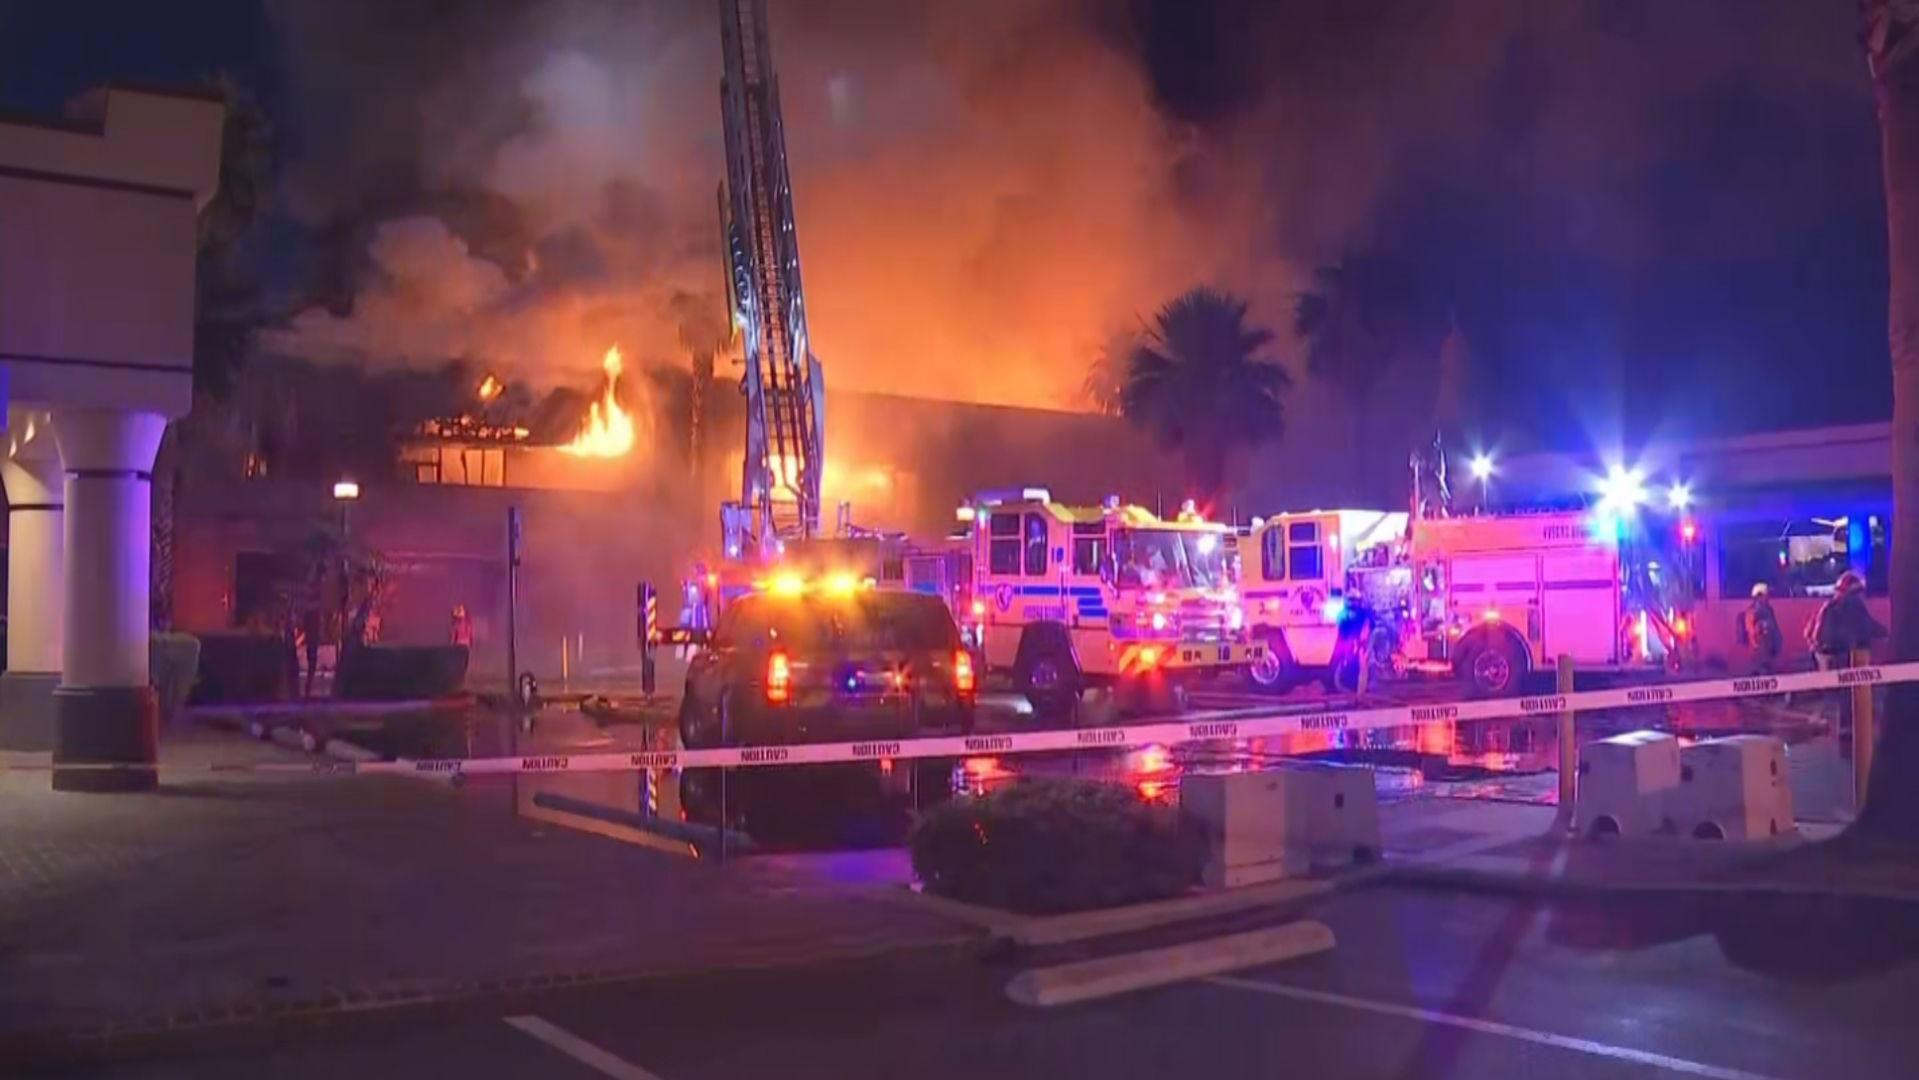Fire: (518, 316, 971, 629)
